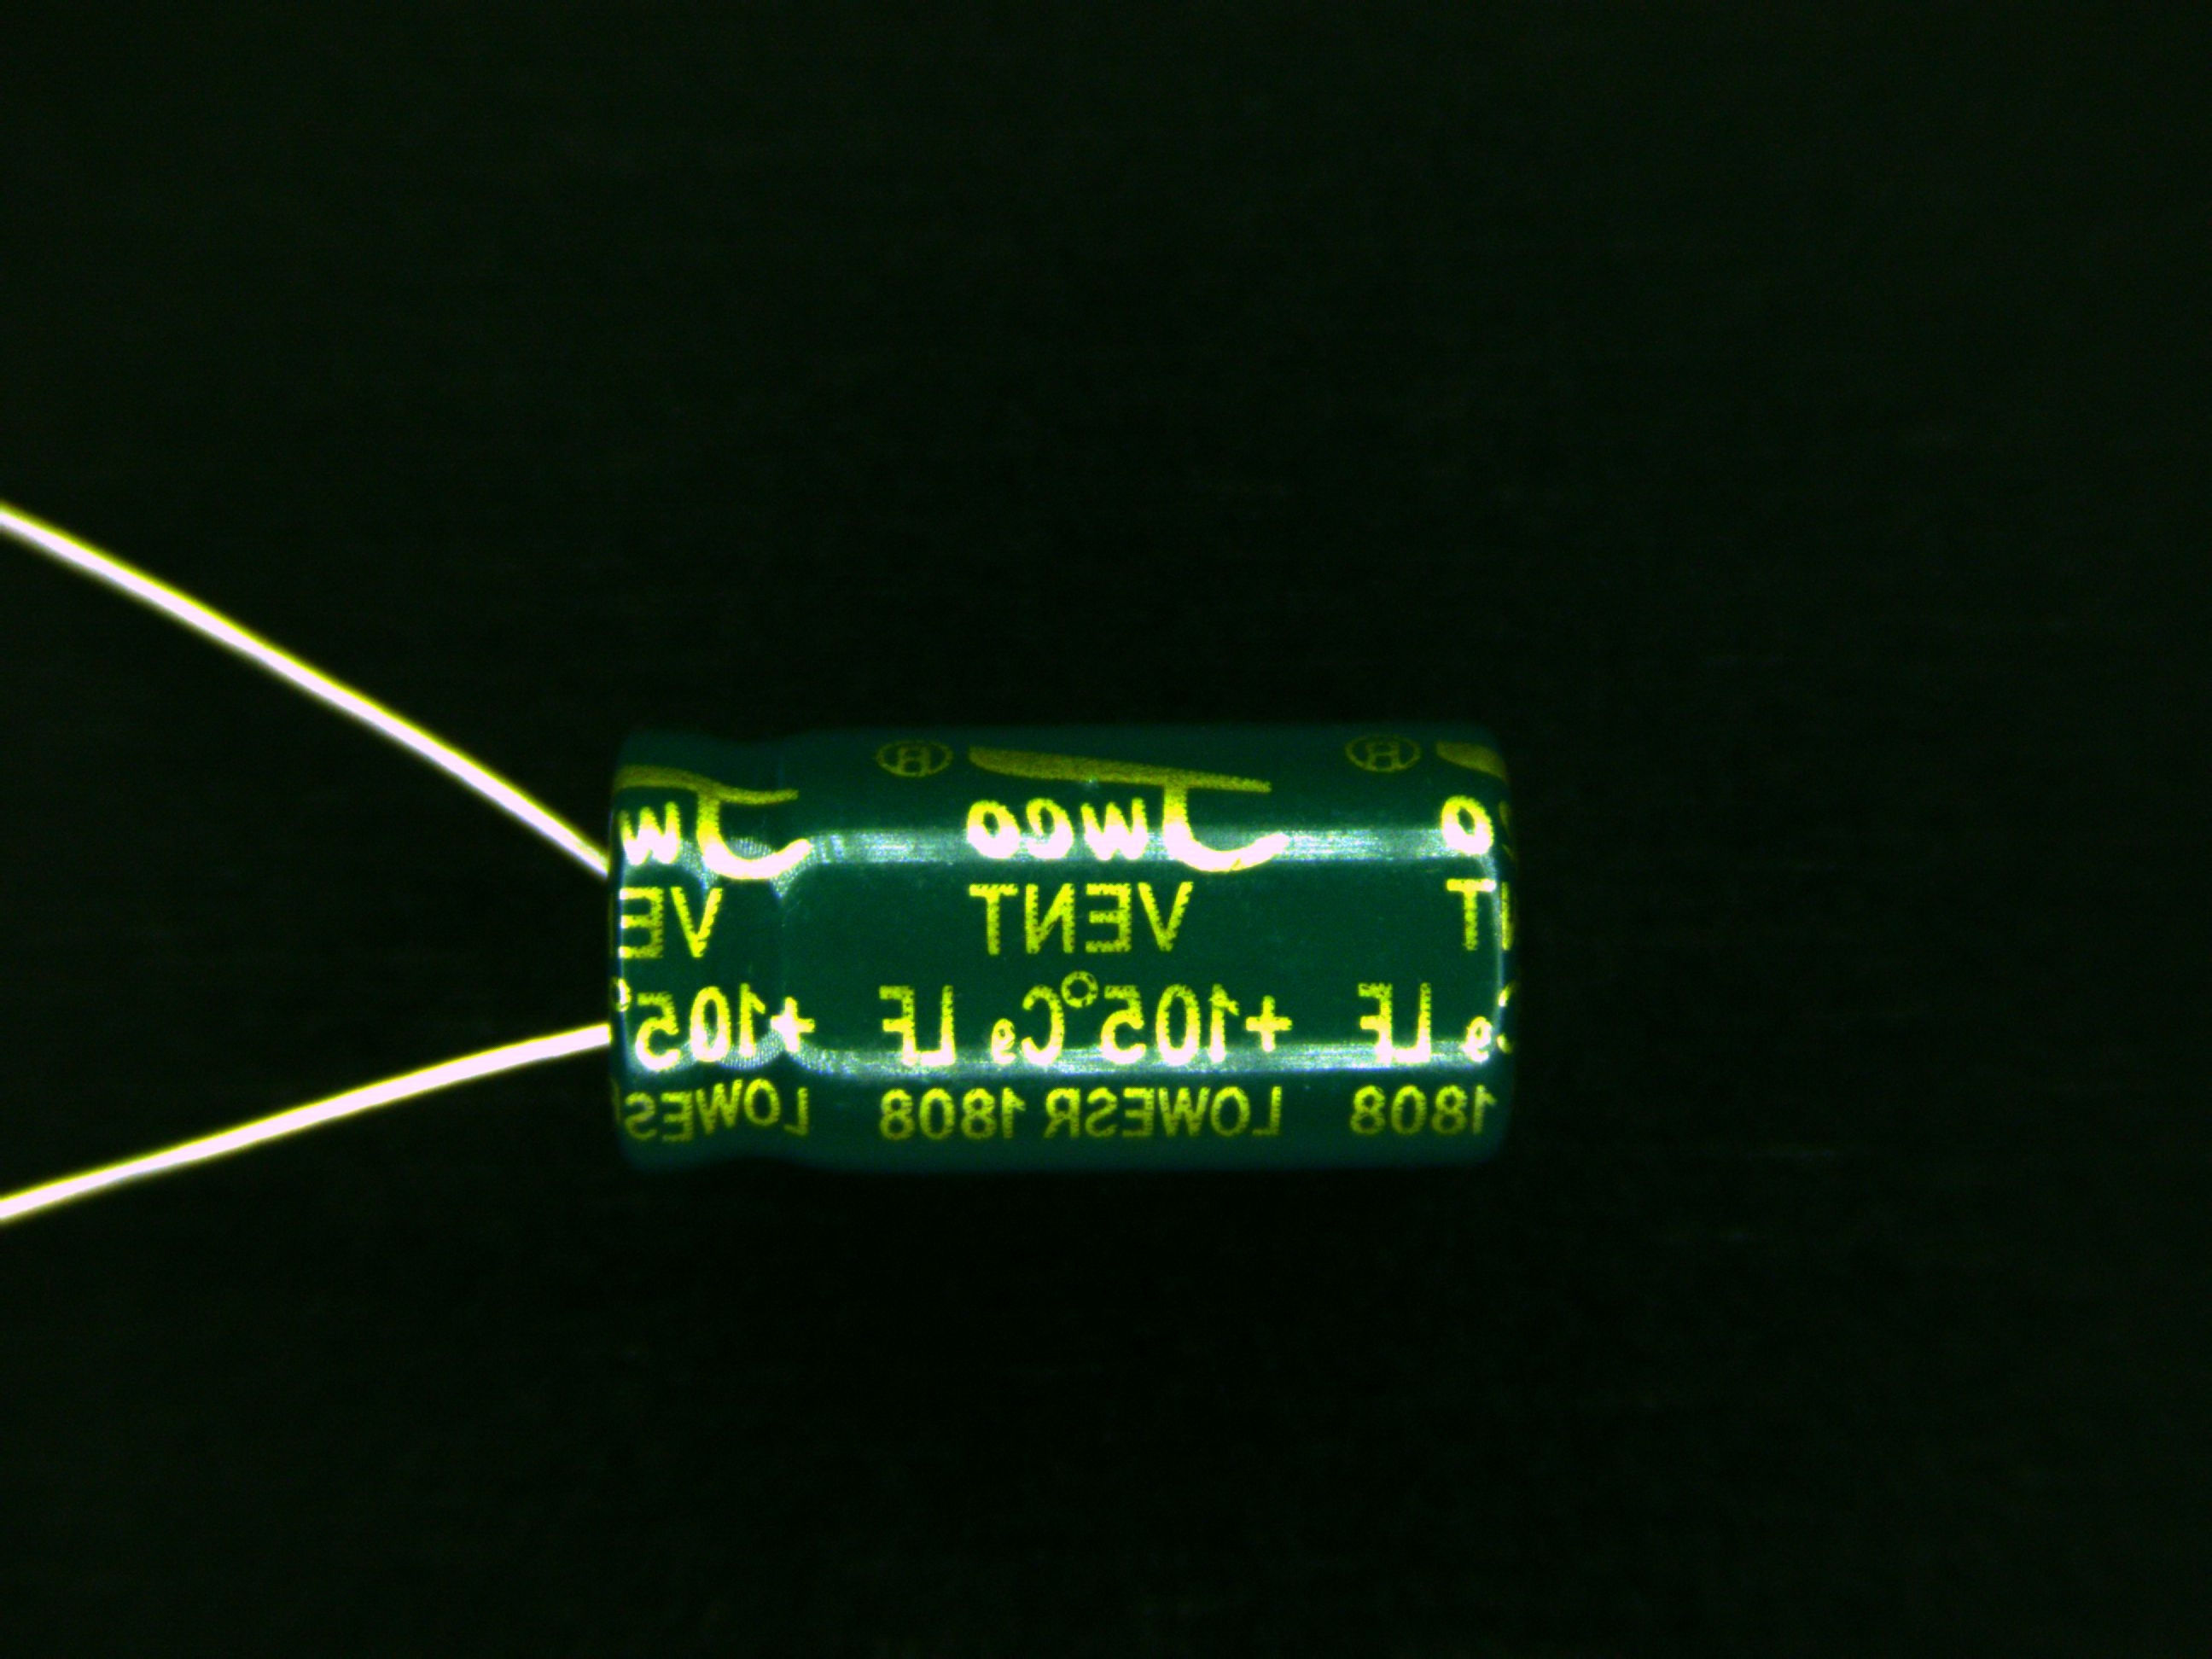c1: (421, 718, 1517, 1188)
